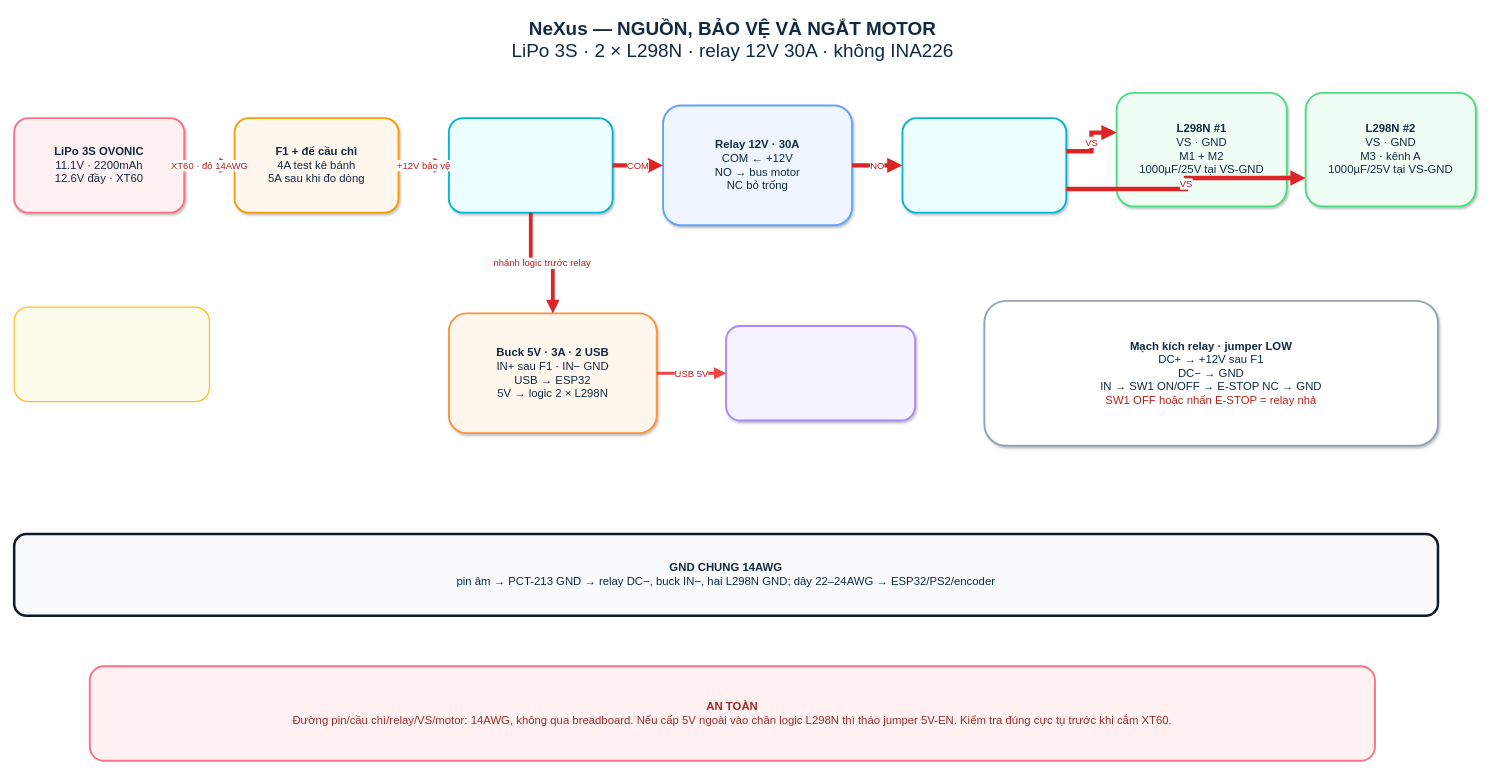
This 1491x772 diagram has some shape labels left out. The centre of each missing label's shape, as x and y in pixels:
Còi báo LiPo 1S–8S cắm giắc balance 4 chân ≈ 3.5V/cell: [111,354]
ESP32-S3 nguồn USB 5V vẫn ghi log khi relay OFF: [820,374]
PCT-213 +12V điểm chia sau F1: [531,166]
PCT-213 MOTOR chia hai nhánh VS: [985,166]
